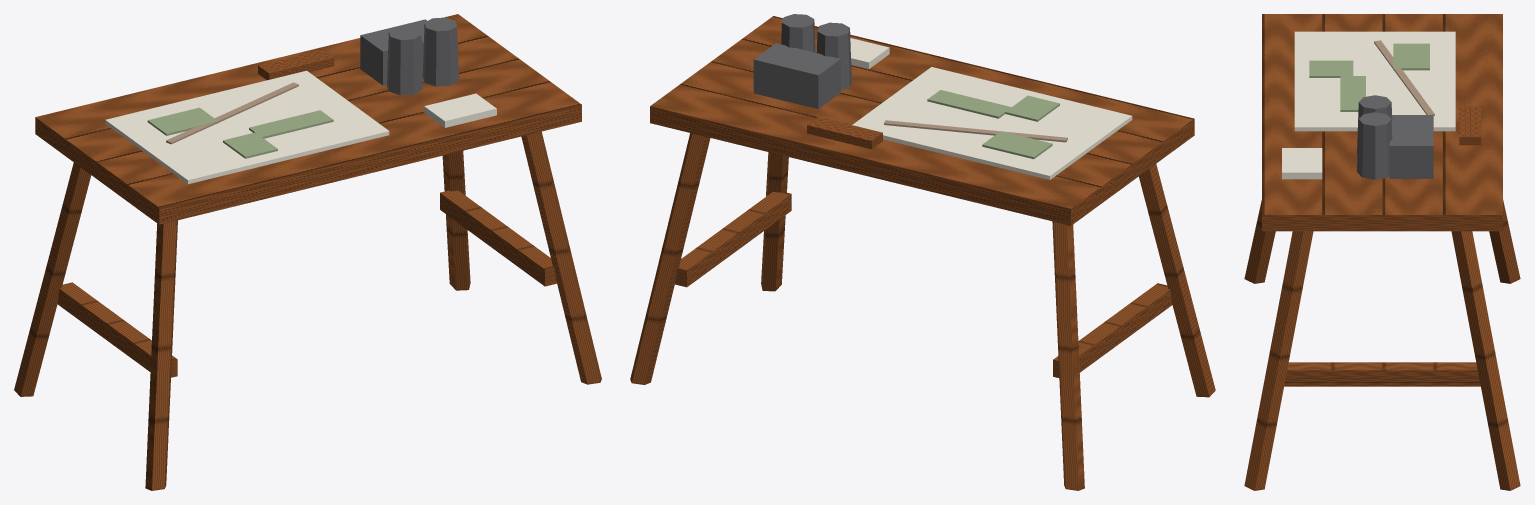
File: safari-camp-and-bush-lodge-field-desk-and-binoculars-89f6223e__37701.glb
The picture shows the model from 3 angles, left to right: view 1: azimuth 30°, elevation 25°; view 2: azimuth 150°, elevation 25°; view 3: azimuth 270°, elevation 25°; orthographic projection. The views are drawn at different scales.
Parts seen in each view (by area): view 1: field-desk-and-binoculars-timber, field-desk-and-binoculars-canvas, field-desk-and-binoculars-charcoal, field-desk-and-binoculars-scrub, field-desk-and-binoculars-earth; view 2: field-desk-and-binoculars-timber, field-desk-and-binoculars-canvas, field-desk-and-binoculars-charcoal, field-desk-and-binoculars-scrub, field-desk-and-binoculars-earth; view 3: field-desk-and-binoculars-timber, field-desk-and-binoculars-canvas, field-desk-and-binoculars-charcoal, field-desk-and-binoculars-scrub, field-desk-and-binoculars-earth.
Part boxes in pixels (left/top/right/bottom): field-desk-and-binoculars-timber: left=14, top=14, right=601, bottom=490; field-desk-and-binoculars-canvas: left=105, top=70, right=496, bottom=184; field-desk-and-binoculars-charcoal: left=360, top=17, right=458, bottom=95; field-desk-and-binoculars-scrub: left=147, top=107, right=333, bottom=158; field-desk-and-binoculars-earth: left=166, top=82, right=298, bottom=144; field-desk-and-binoculars-timber: left=630, top=16, right=1215, bottom=490; field-desk-and-binoculars-canvas: left=850, top=38, right=1132, bottom=179; field-desk-and-binoculars-charcoal: left=753, top=14, right=851, bottom=109; field-desk-and-binoculars-scrub: left=927, top=90, right=1059, bottom=159; field-desk-and-binoculars-earth: left=884, top=120, right=1067, bottom=142; field-desk-and-binoculars-timber: left=1244, top=14, right=1520, bottom=490; field-desk-and-binoculars-canvas: left=1282, top=31, right=1455, bottom=179; field-desk-and-binoculars-charcoal: left=1357, top=95, right=1433, bottom=179; field-desk-and-binoculars-scrub: left=1309, top=43, right=1429, bottom=111; field-desk-and-binoculars-earth: left=1374, top=40, right=1434, bottom=115.
Size of the model in its own units: 1.39 by 0.9851 by 0.7555.
Materials: 5 (2 with a texture image).
